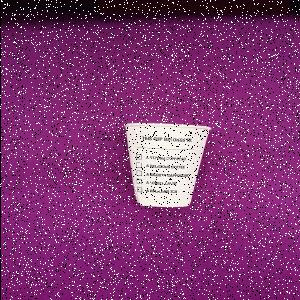Cup: (122, 124, 213, 209)
